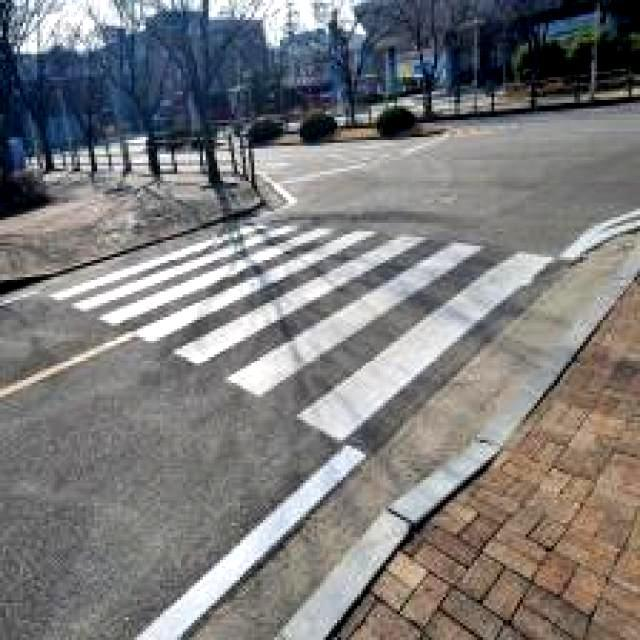crosswalk: (10, 202, 632, 639)
